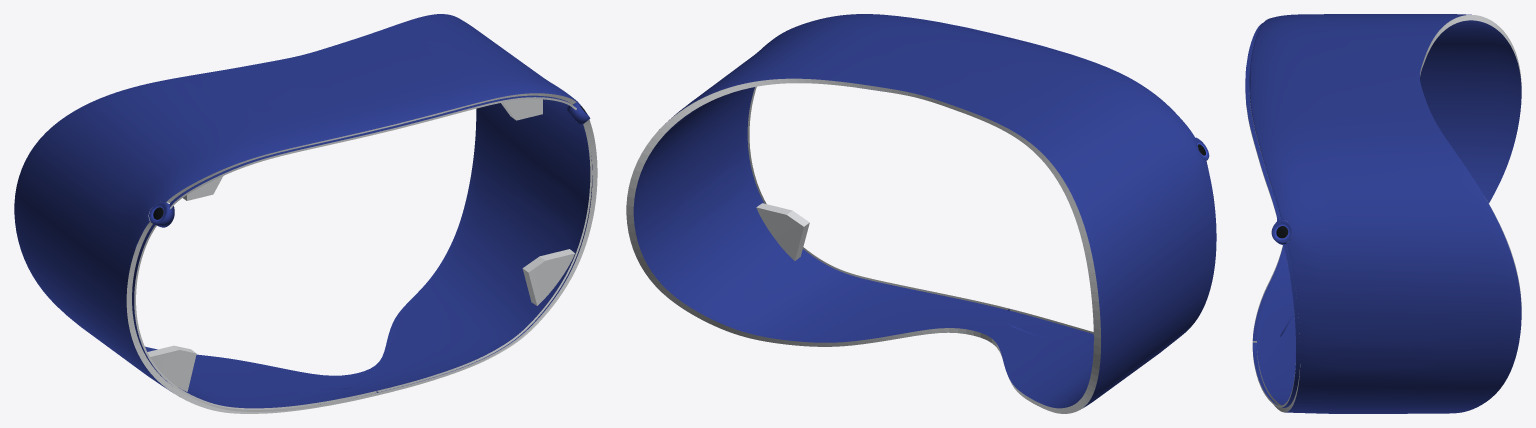
Rendered from gehause.fbx.
3 renders of one model, left to right at view 1: azimuth 30°, elevation 25°; view 2: azimuth 150°, elevation 25°; view 3: azimuth 270°, elevation 25°, orthographic. The views are drawn at different scales.
Parts seen in each view (by area): view 1: Gehäuse; view 2: Gehäuse; view 3: Gehäuse.
Part boxes in pixels (x1,y1,x2,y2): Gehäuse: (14,14,597,413); Gehäuse: (626,14,1216,413); Gehäuse: (1245,14,1521,413).
Bounding box in the file's own units: 125 × 70.97 × 64.57.
